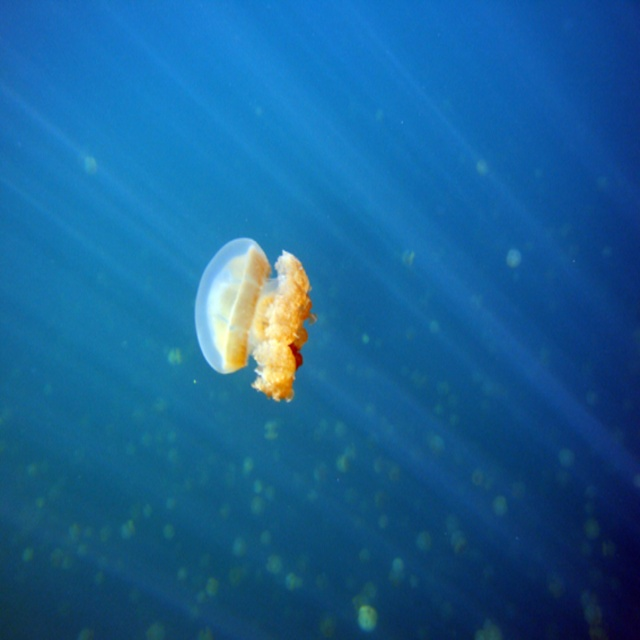Jellyfish: (194, 224, 316, 402)
